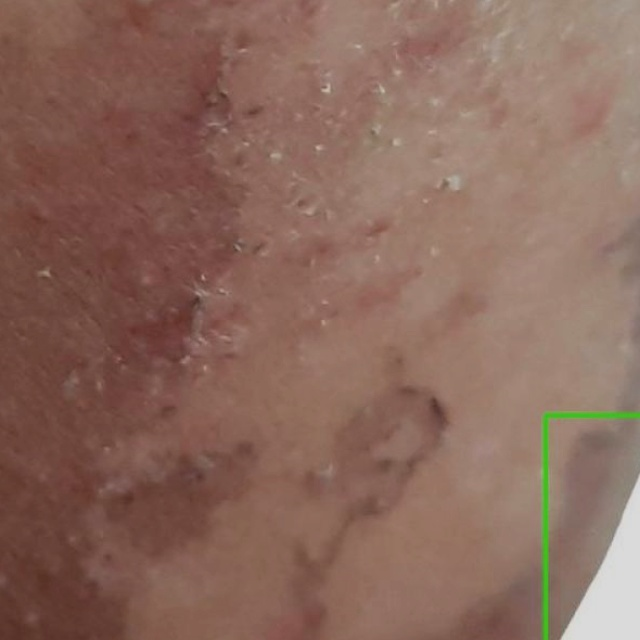Contact Dermatitis: (545, 415, 639, 639)
